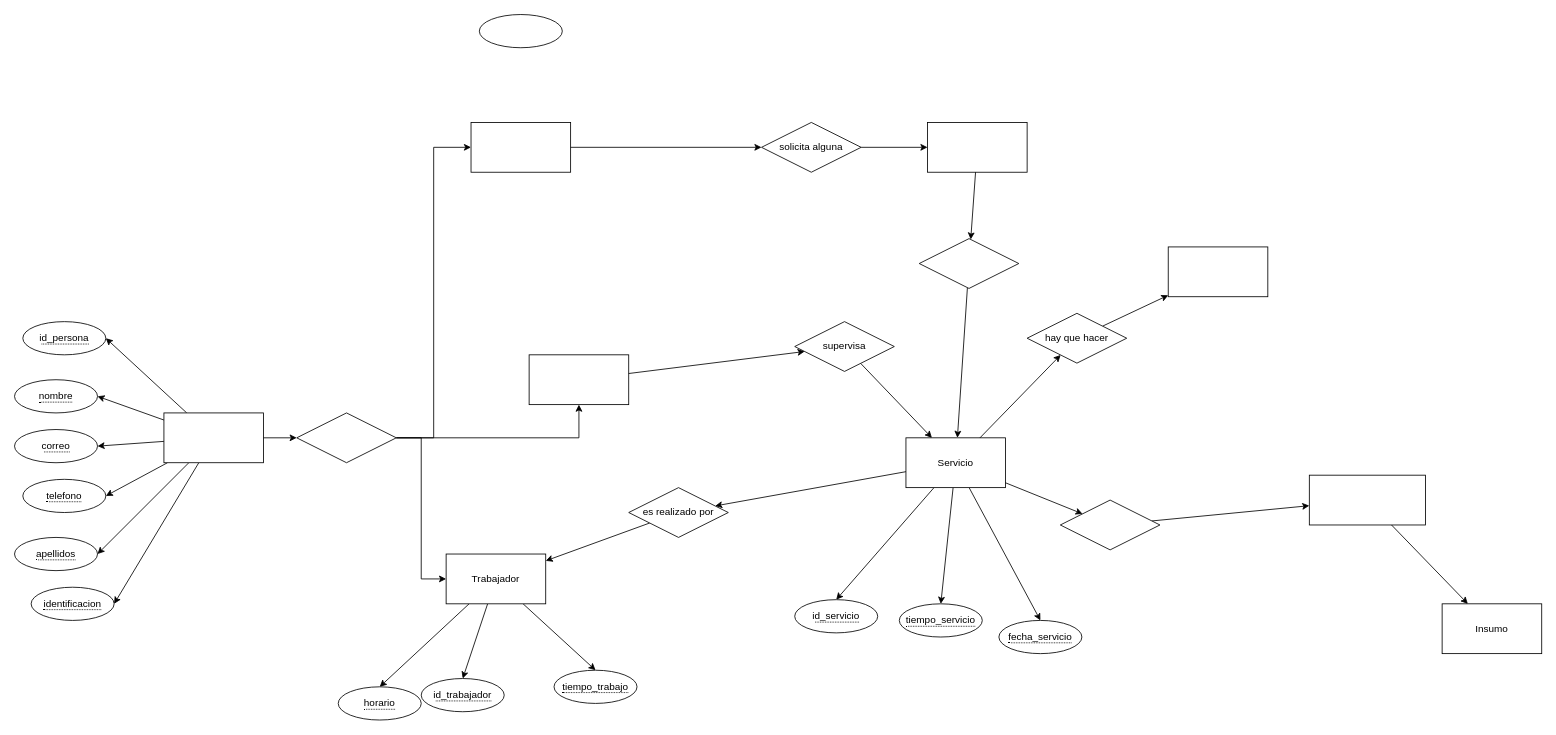
The diagram is 1556 pixels wide and 735 high, and some of its shapes have lost their labels. Here are the shapes that lost their labels. From the top down, the centre of each, then its label:
point (520, 31): id_cliente
point (520, 147): Cliente
point (977, 147): Cita
point (968, 263): es para
point (1217, 271): Pago
point (578, 379): Administrador
point (213, 437): persona
point (346, 437): es un
point (1367, 499): Detalle_Insumo
point (1109, 524): tiene
